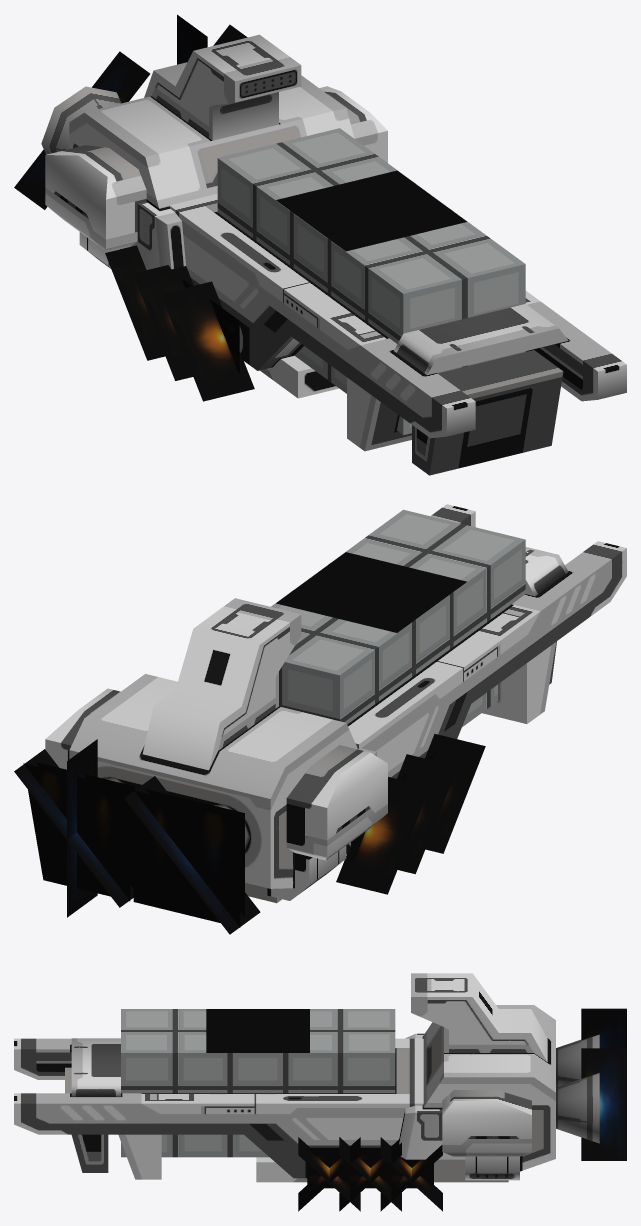
File: logistic-vessel.glb
3 renders of one model, top to bottom at view 1: azimuth 30°, elevation 25°; view 2: azimuth 150°, elevation 25°; view 3: azimuth 270°, elevation 25°, orthographic. The views are drawn at different scales.
Parts seen in each view (by area): view 1: logistic-vessel, logistic-vessel-1; view 2: logistic-vessel, logistic-vessel-1; view 3: logistic-vessel, logistic-vessel-1.
Part boxes in pixels (box(x1,y1,x2,y2)): logistic-vessel: box(41, 34, 626, 475); logistic-vessel-1: box(14, 14, 466, 401); logistic-vessel: box(45, 504, 626, 903); logistic-vessel-1: box(14, 552, 485, 934); logistic-vessel: box(14, 973, 599, 1182); logistic-vessel-1: box(206, 1008, 626, 1211).
Size of the model in its own units: 4.39 by 3.53 by 11.17.
Materials: 2 (2 with a texture image).
